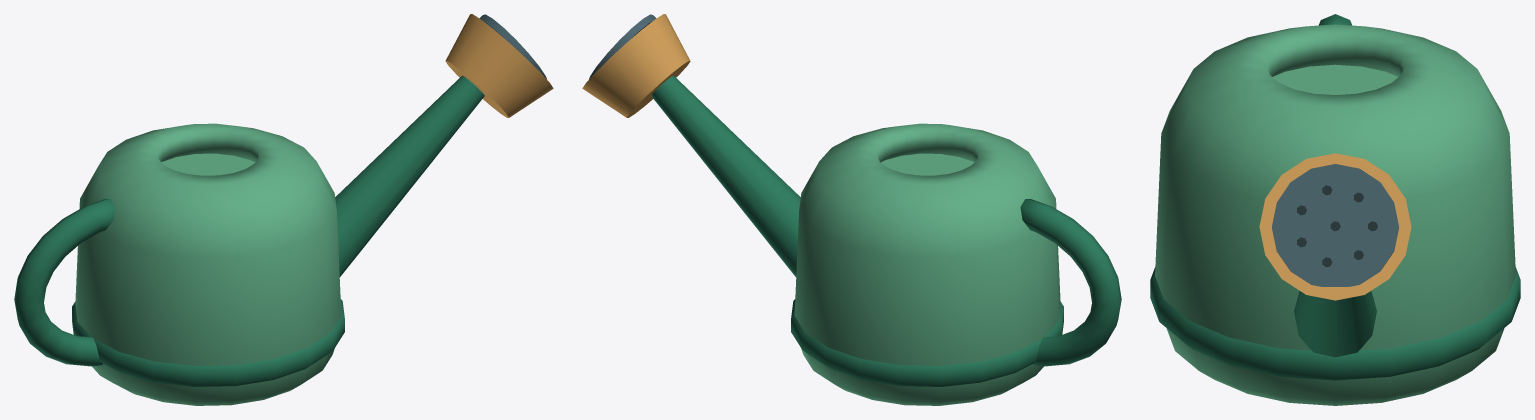
File: watering_can.glb
3 renders of one model, left to right at view 1: azimuth 30°, elevation 25°; view 2: azimuth 150°, elevation 25°; view 3: azimuth 270°, elevation 25°, orthographic. The views are drawn at different scales.
Visible parts, largest first — view 1: Can; view 2: Can; view 3: Can.
Boxes of the visible parts, left/top/right/bottom form: Can: left=14, top=14, right=553, bottom=405; Can: left=582, top=14, right=1121, bottom=405; Can: left=1150, top=14, right=1520, bottom=405.
Bounding box in the file's own units: 0.5939 × 0.2945 × 0.268.
